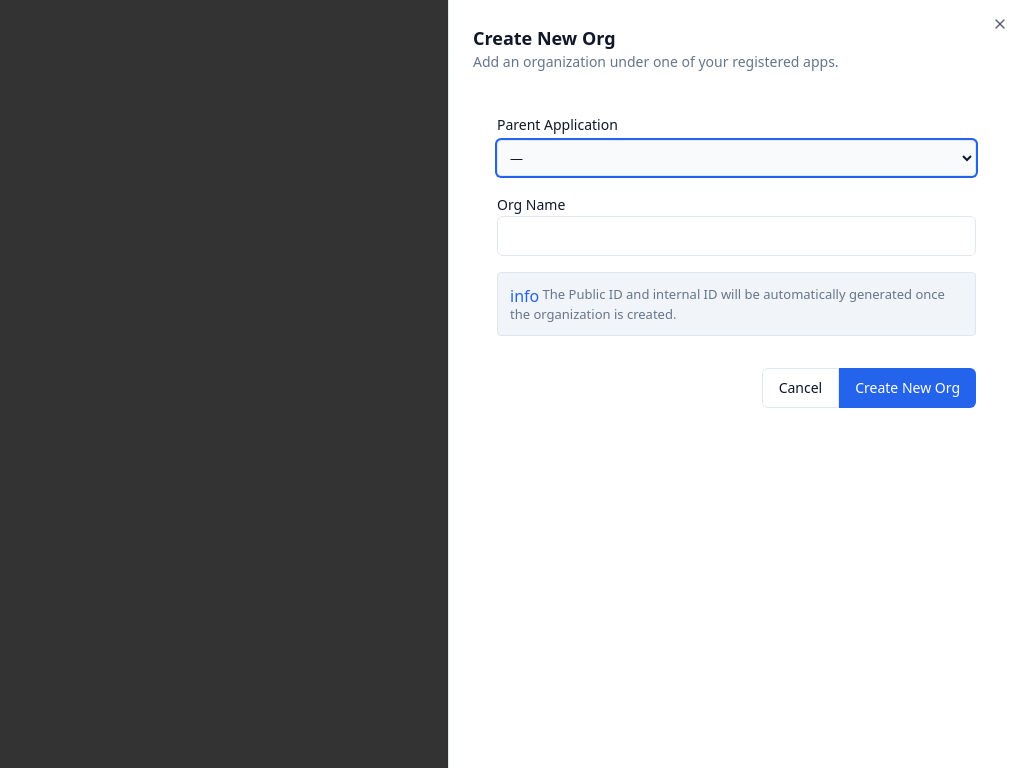
Test: OrgCreateDrawer › surfaces 409 nameExists error inline
This screenshot has width=1024, height=768.
Select "Customer Portal" in the dropdown labelled "Parent Application" at coordinates (736, 158), box [497,140,976,176]
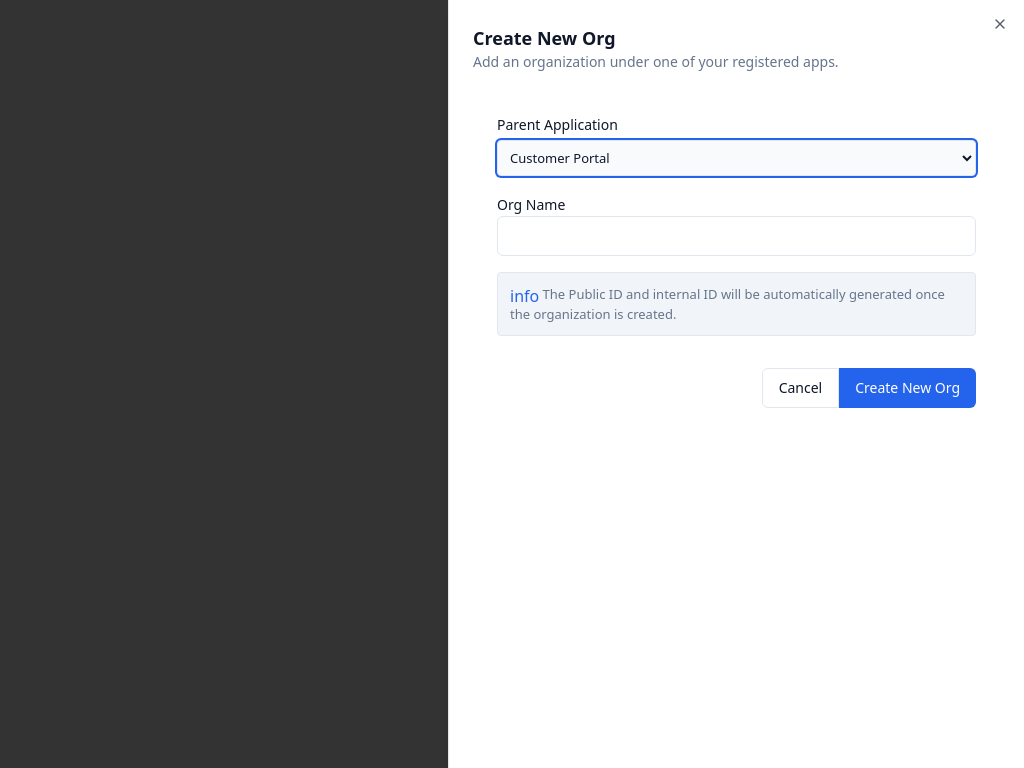
Type "Dup" into the field labelled "Org Name" at coordinates (736, 236), box [497,216,976,256]
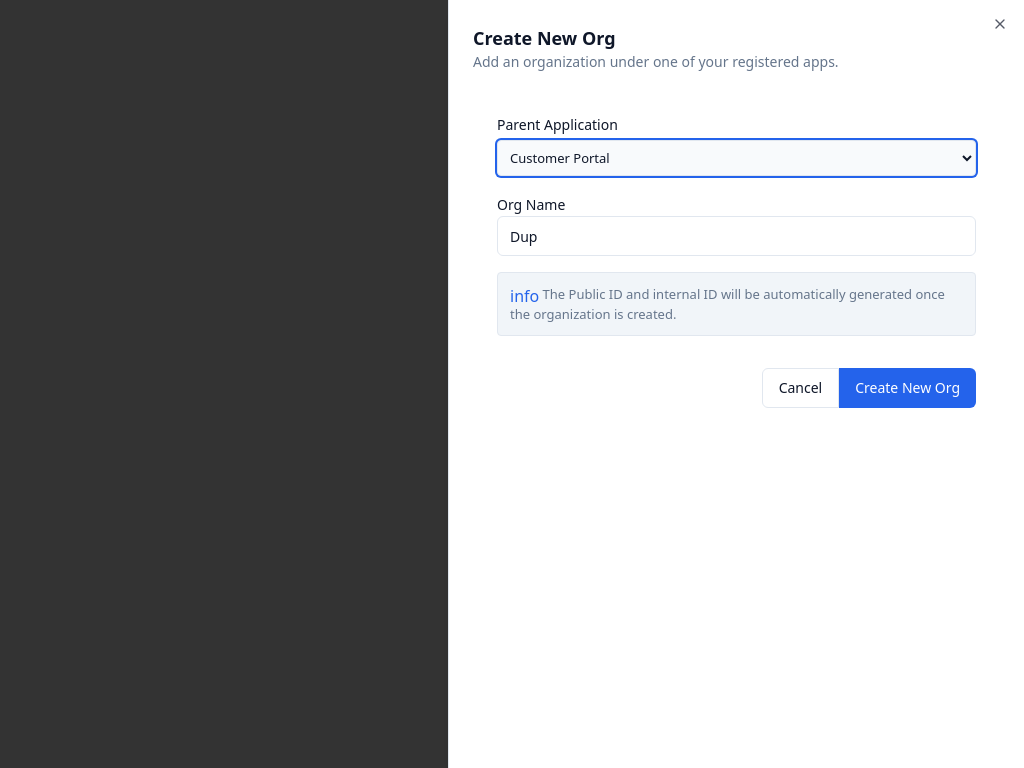
Click the button "Create New Org" at coordinates (908, 388), box [839,368,976,408]
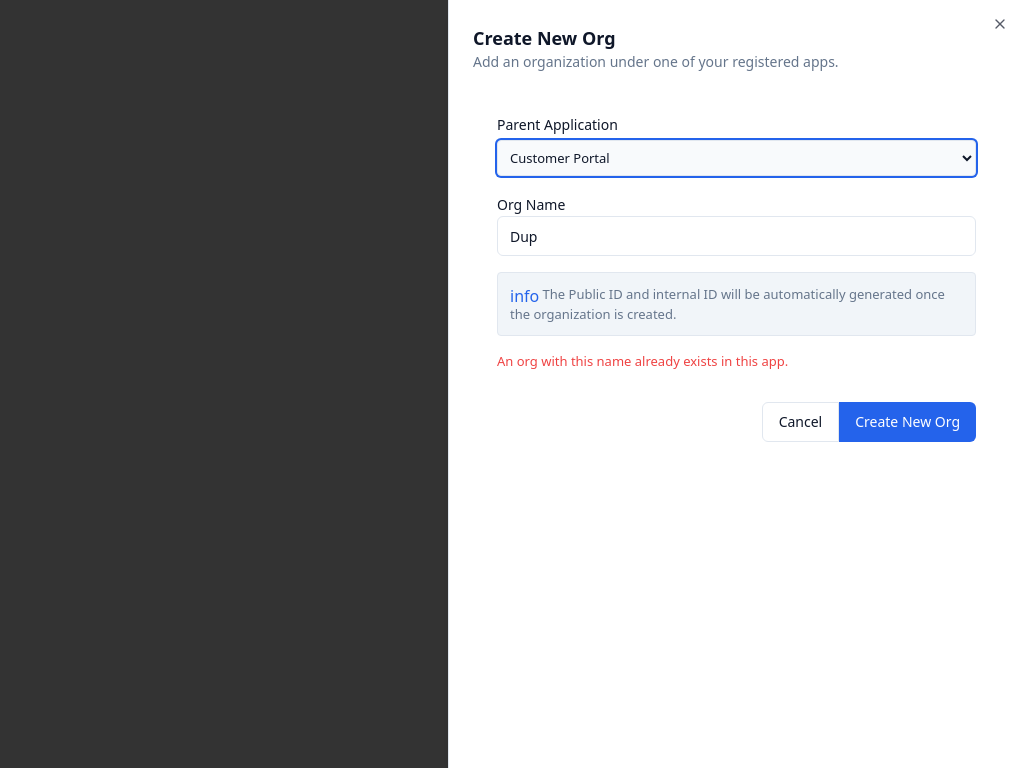
Result: the text "An org with this name already exists in this app." is shown at [497,352,788,370]
